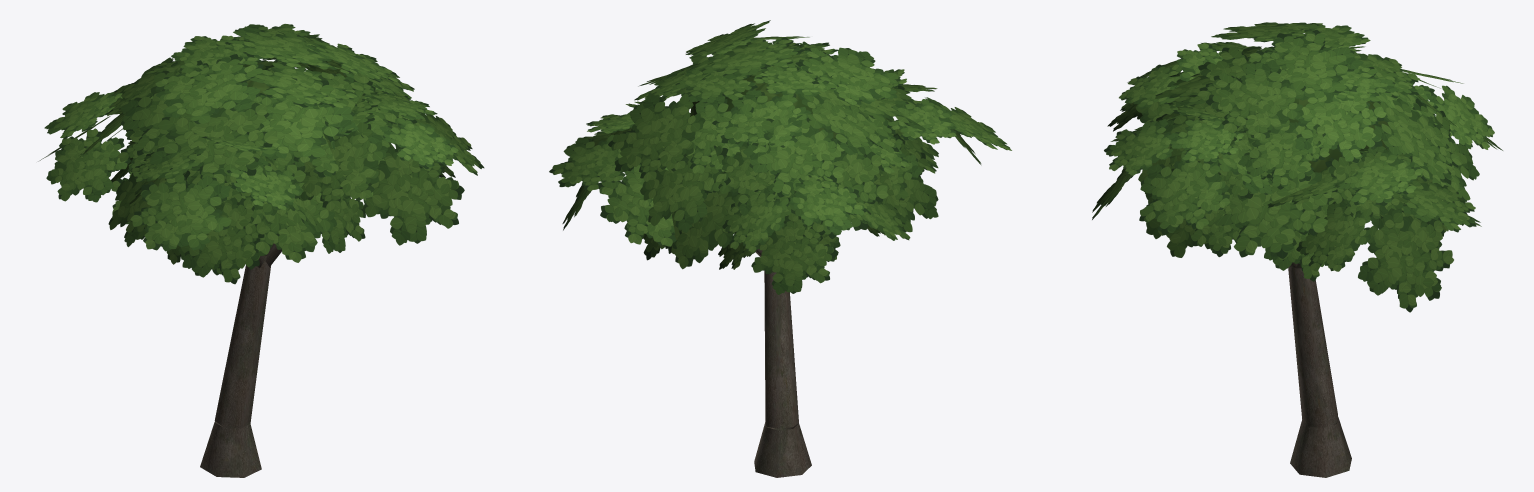
Rendered from tree2.glb.
The picture shows the model from 3 angles, left to right: view 1: azimuth 30°, elevation 25°; view 2: azimuth 150°, elevation 25°; view 3: azimuth 270°, elevation 25°; orthographic projection. The views are drawn at different scales.
Parts seen in each view (by area): view 1: Tree; view 2: Tree; view 3: Tree.
Boxes of the visible parts, bbox=[...] form: Tree: bbox=[38, 24, 484, 477]; Tree: bbox=[549, 20, 1011, 477]; Tree: bbox=[1092, 22, 1502, 477].
Bounding box in the file's own units: 9 × 9.33 × 8.76.
2 materials, 2 textured.
